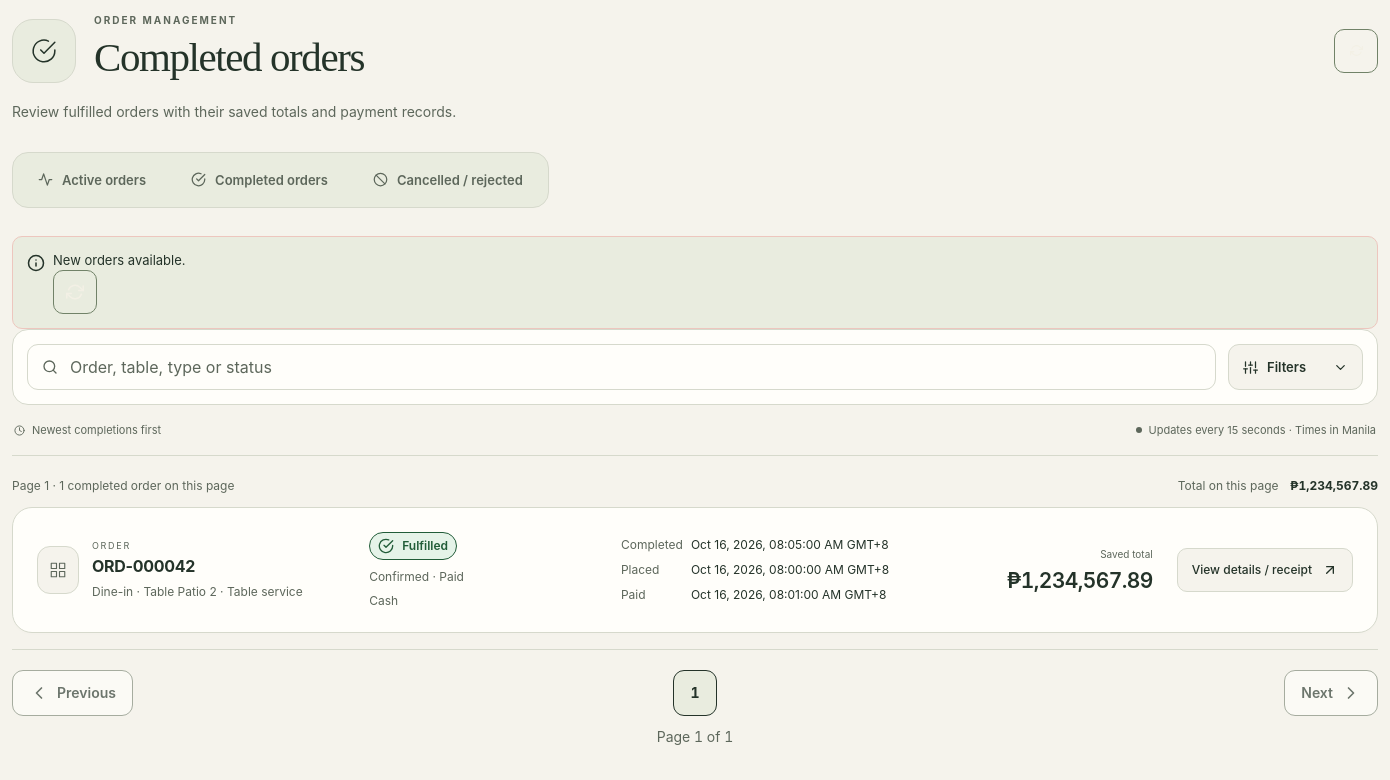
Test: announces newer history without moving records until the user refreshes
The width and height of the screenshot is (1390, 780).
expect the heading "ORD-000042" is shown: met, box top-left (92, 556), bottom-right (195, 576)
expect the text "New orders available." is shown: met, box top-left (53, 251), bottom-right (186, 314)
What coordinates should you click on to do the following:
click the button named "Show new orders"
I would click on:
 (75, 292)
Its box is top-left (53, 270), bottom-right (97, 314).
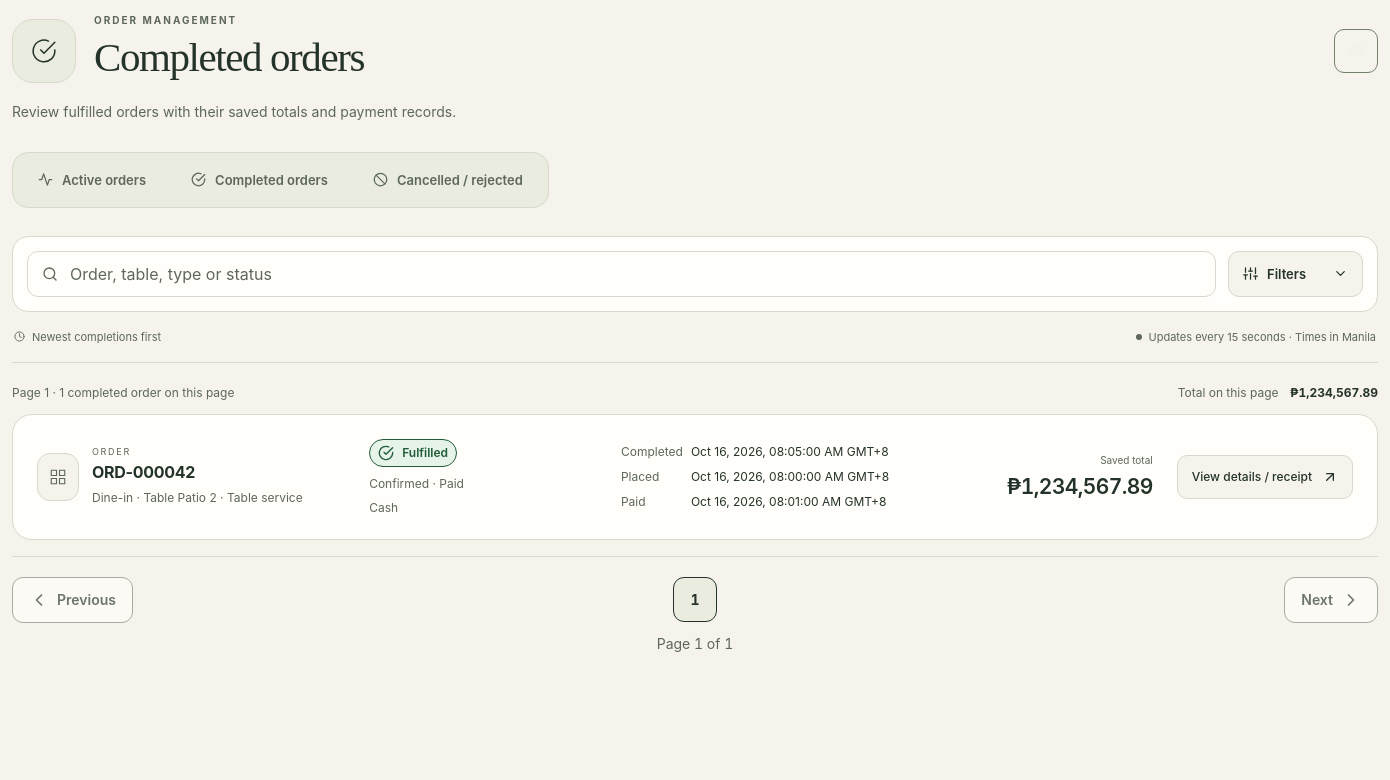
expect the text "New orders available." is gone: met
